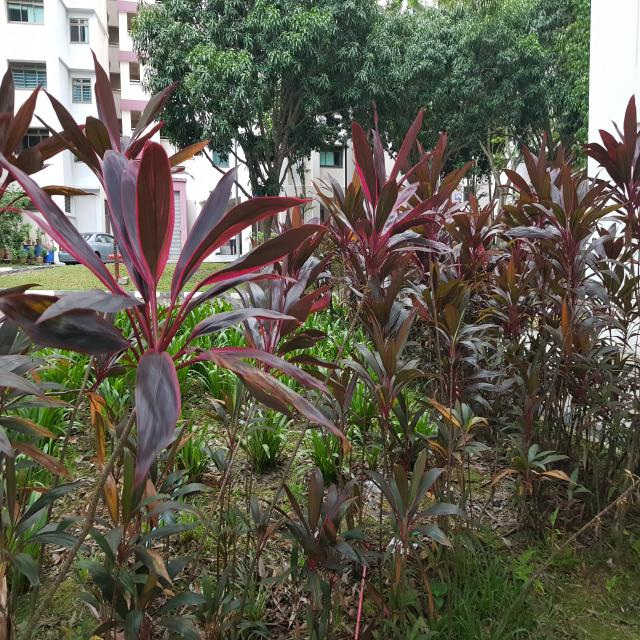Ti: (55, 118, 299, 435), (318, 106, 446, 307), (498, 167, 629, 287), (353, 424, 453, 581), (269, 469, 395, 586)
